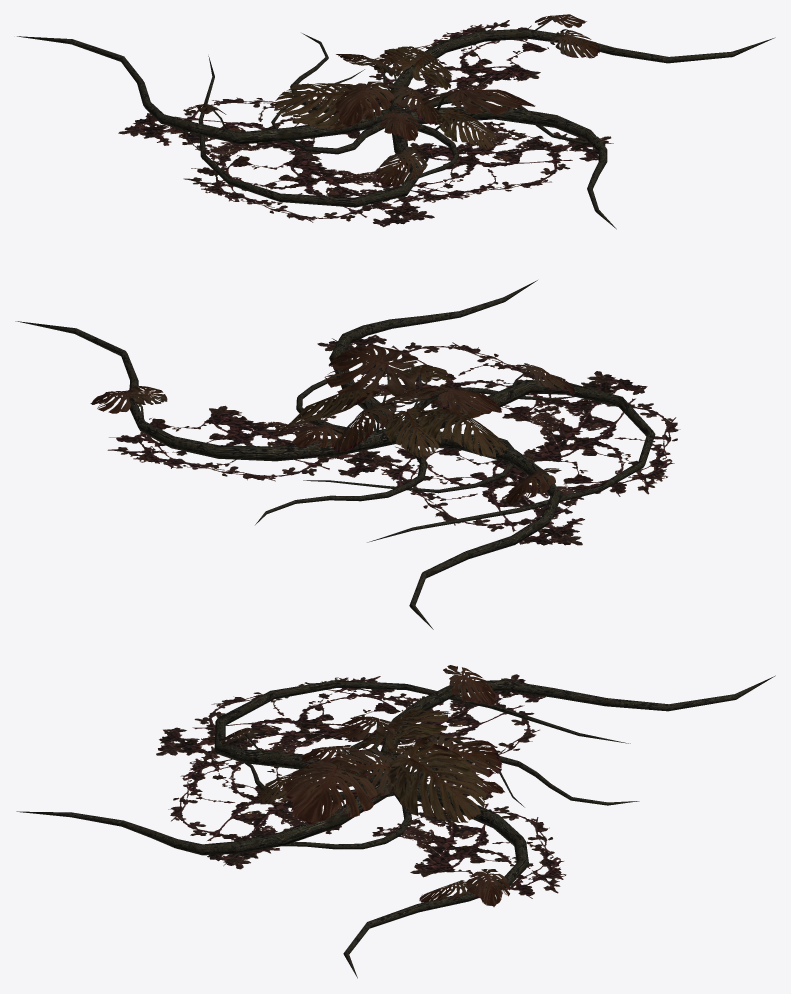
File: floor_ivy.dae
3 renders of one model, top to bottom at view 1: azimuth 30°, elevation 25°; view 2: azimuth 150°, elevation 25°; view 3: azimuth 270°, elevation 25°, orthographic. The views are drawn at different scales.
Parts seen in each view (by area): view 1: polySurface35, polySurface4, polySurface5; view 2: polySurface35, polySurface4, polySurface5; view 3: polySurface5, polySurface35, polySurface4.
Part boxes in pixels (<box>): polySurface35: <box>118,20,611,227</box>; polySurface4: <box>17,28,775,229</box>; polySurface5: <box>186,14,599,187</box>; polySurface35: <box>107,334,680,545</box>; polySurface4: <box>15,280,655,629</box>; polySurface5: <box>90,344,574,505</box>; polySurface5: <box>222,665,510,906</box>; polySurface35: <box>156,674,566,898</box>; polySurface4: <box>16,675,775,978</box>.
Bounding box in the file's own units: 6.48 × 0.5879 × 6.42.
